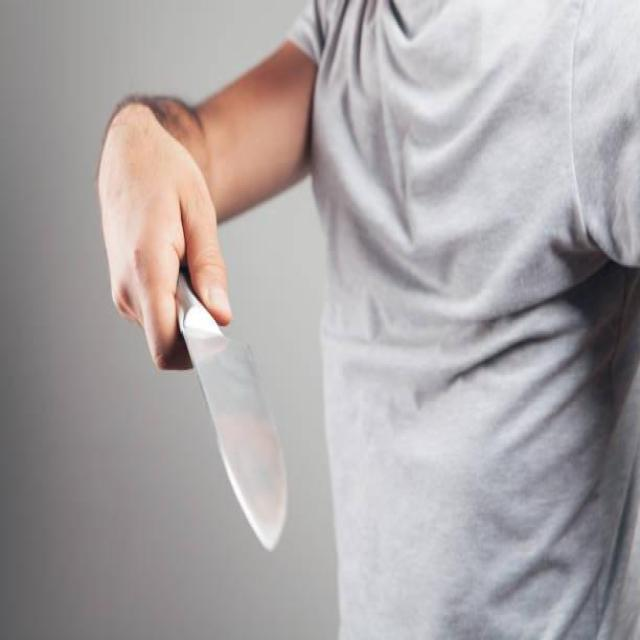faca: (88, 88, 297, 579)
